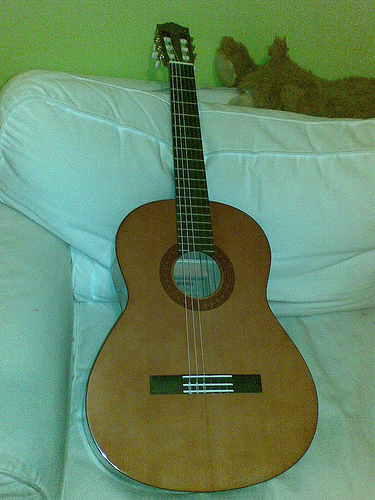guitar: (82, 17, 322, 497)
